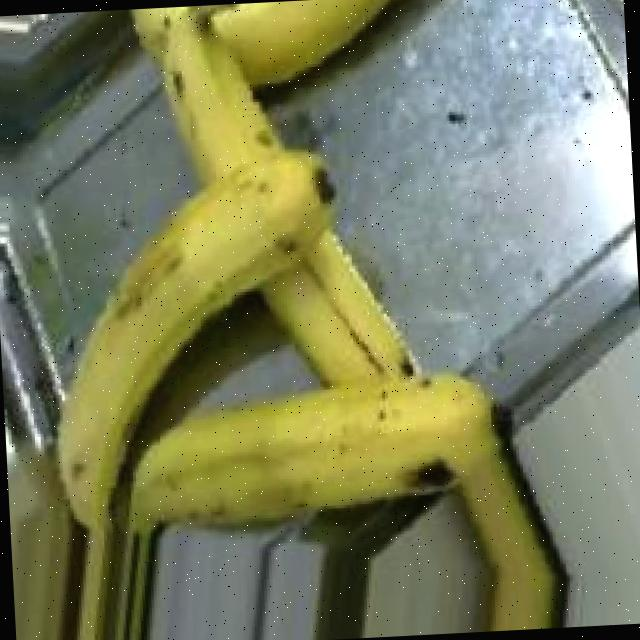banana: (44, 101, 372, 584), (117, 348, 542, 558), (111, 0, 435, 103)
